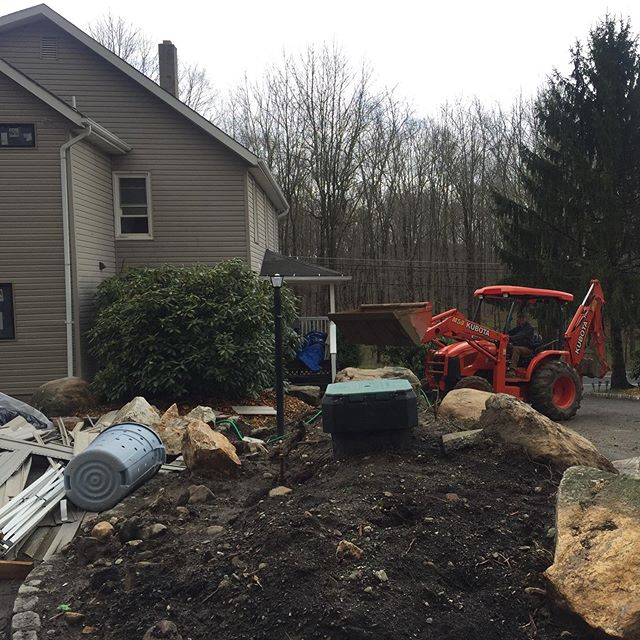building: (1, 8, 277, 410)
dirt: (131, 432, 518, 640)
rocks: (440, 383, 640, 640)
tractor: (382, 283, 601, 417)
trash: (1, 387, 248, 640)
vegetation: (249, 54, 640, 284)
